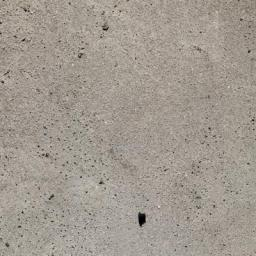FOD: (132, 210, 152, 231)
